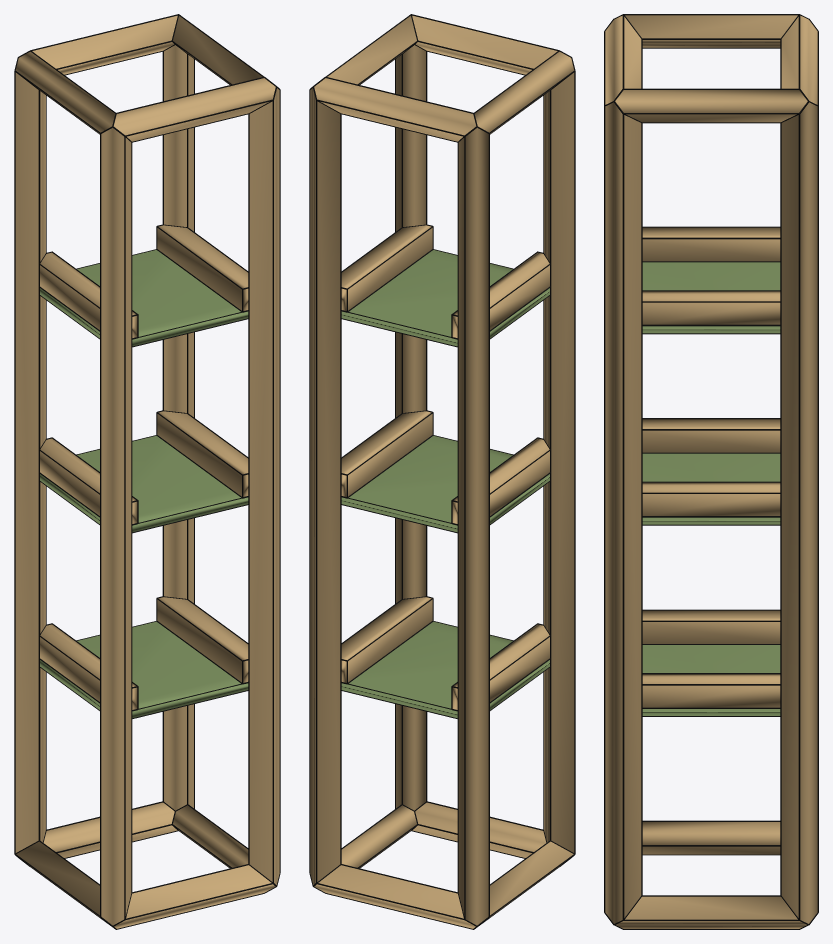
The model's file is 013-bibliotheque-petite.glb.
The picture shows the model from 3 angles, left to right: view 1: azimuth 30°, elevation 25°; view 2: azimuth 150°, elevation 25°; view 3: azimuth 270°, elevation 25°; orthographic projection. The views are drawn at different scales.
Parts seen in each view (by area): view 1: arete-Z0, arete-Z1, arete-Z2, arete-Z3, tablette-plate-mod-1, tablette-plate-mod-0, tablette-plate-mod-2, arete-X2, arete-wire-Z0, arete-wire-Z1, arete-wire-Z2, arete-X0 (+19 smaller); view 2: arete-Z2, arete-Z3, arete-Z0, arete-Z1, tablette-plate-mod-1, tablette-plate-mod-0, tablette-plate-mod-2, arete-X3, arete-wire-Z3, arete-wire-Z2, arete-wire-Z0, arete-X1 (+20 smaller); view 3: arete-Z1, arete-Z3, arete-Y3, arete-wire-Z1, arete-wire-Z3, arete-Y1, tablette-plate-mod-1, tablette-plate-mod-2, arete-Y2, tablette-plate-mod-0, tablette-traverse-left-mod-2, tablette-traverse-right-mod-2 (+19 smaller).
Boxes of the visible parts, left/top/right/bottom form: arete-Z0: left=101, top=127, right=131, bottom=925; arete-Z1: left=249, top=88, right=279, bottom=884; arete-Z2: left=15, top=72, right=45, bottom=852; arete-Z3: left=164, top=45, right=193, bottom=810; tablette-plate-mod-1: left=40, top=435, right=248, bottom=532; tablette-plate-mod-0: left=40, top=621, right=248, bottom=718; tablette-plate-mod-2: left=40, top=250, right=248, bottom=346; arete-X2: left=113, top=78, right=275, bottom=141; arete-wire-Z0: left=100, top=126, right=132, bottom=919; arete-wire-Z1: left=248, top=86, right=280, bottom=883; arete-wire-Z2: left=14, top=71, right=46, bottom=853; arete-X0: left=114, top=865, right=275, bottom=928; arete-Z2: left=458, top=127, right=488, bottom=925; arete-Z3: left=310, top=88, right=340, bottom=884; arete-Z0: left=544, top=72, right=574, bottom=852; arete-Z1: left=396, top=45, right=425, bottom=810; tablette-plate-mod-1: left=341, top=435, right=549, bottom=532; tablette-plate-mod-0: left=341, top=621, right=549, bottom=718; tablette-plate-mod-2: left=341, top=250, right=549, bottom=346; arete-X3: left=314, top=78, right=476, bottom=141; arete-wire-Z3: left=309, top=90, right=341, bottom=883; arete-wire-Z2: left=457, top=126, right=489, bottom=919; arete-wire-Z0: left=543, top=57, right=575, bottom=853; arete-X1: left=314, top=865, right=475, bottom=928; arete-Z1: left=605, top=102, right=641, bottom=923; arete-Z3: left=781, top=102, right=817, bottom=923; arete-Y3: left=615, top=90, right=807, bottom=122; arete-wire-Z1: left=604, top=101, right=642, bottom=920; arete-wire-Z3: left=780, top=106, right=818, bottom=920; arete-Y1: left=616, top=896, right=806, bottom=928; tablette-plate-mod-1: left=642, top=453, right=780, bottom=524; tablette-plate-mod-2: left=642, top=262, right=780, bottom=333; arete-Y2: left=625, top=15, right=797, bottom=47; tablette-plate-mod-0: left=642, top=645, right=780, bottom=715; tablette-traverse-left-mod-2: left=642, top=227, right=780, bottom=261; tablette-traverse-right-mod-2: left=642, top=291, right=780, bottom=324.
Size of the model in its own units: 0.3309 by 1.43 by 0.3309.
